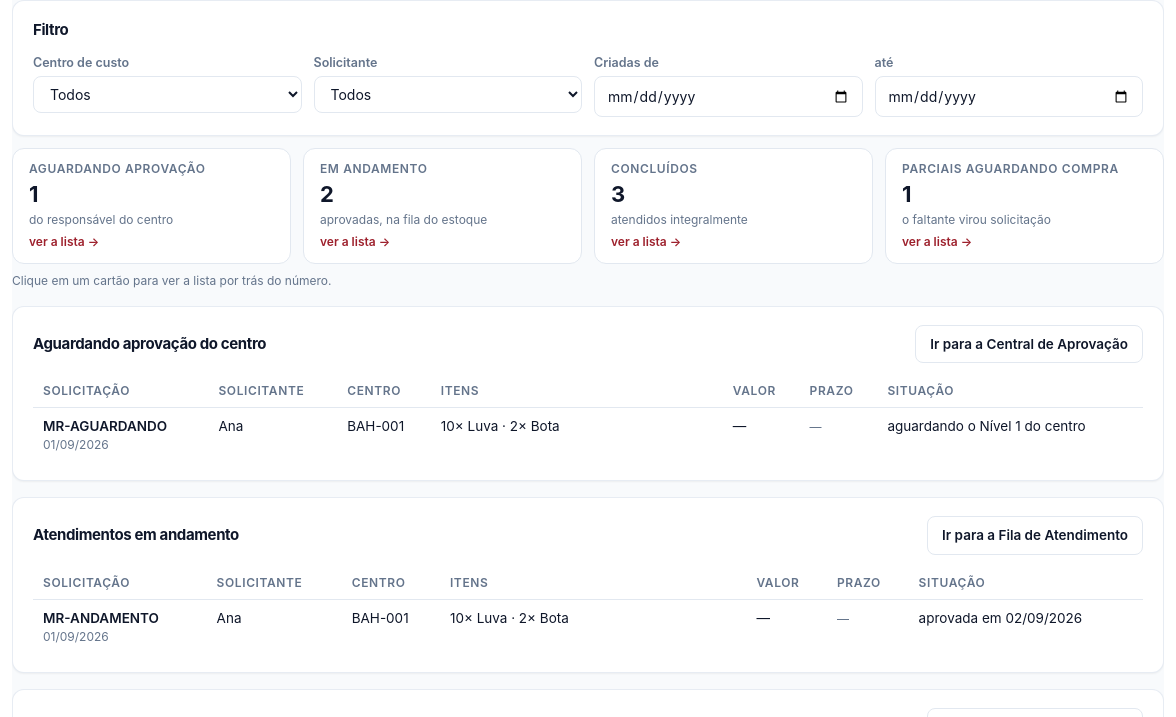
Scenario: tela Painel de Atendimentos › clicar num cartão isola o bloco, e clicar de novo devolve todos
Check: the table with test id "painel-aguardando" is shown, box [33,375,1143,462]
Click the button "Em andamento 2 aprovadas, na fila do estoque ver a lista →": point(374, 169) [303,148,582,264]
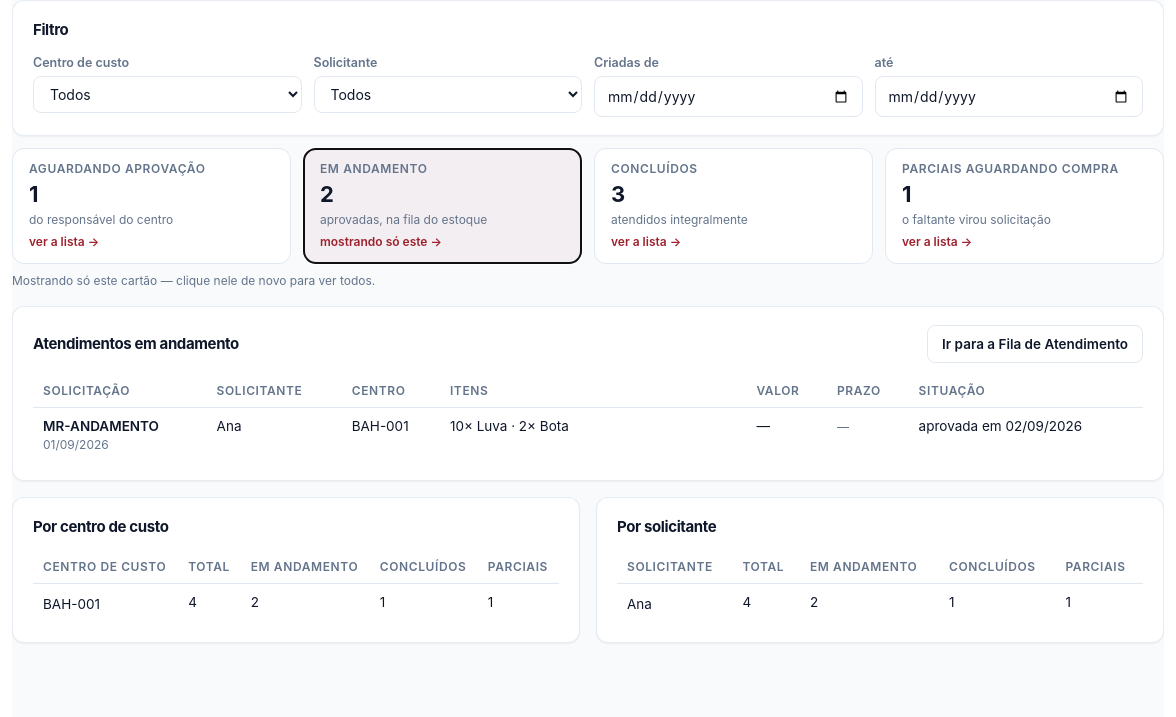
Check: the table with test id "painel-andamento" is shown, box [33,375,1143,462]
Check: the table with test id "painel-aguardando" is gone
Click the button "Em andamento": point(374, 169) [303,148,582,264]
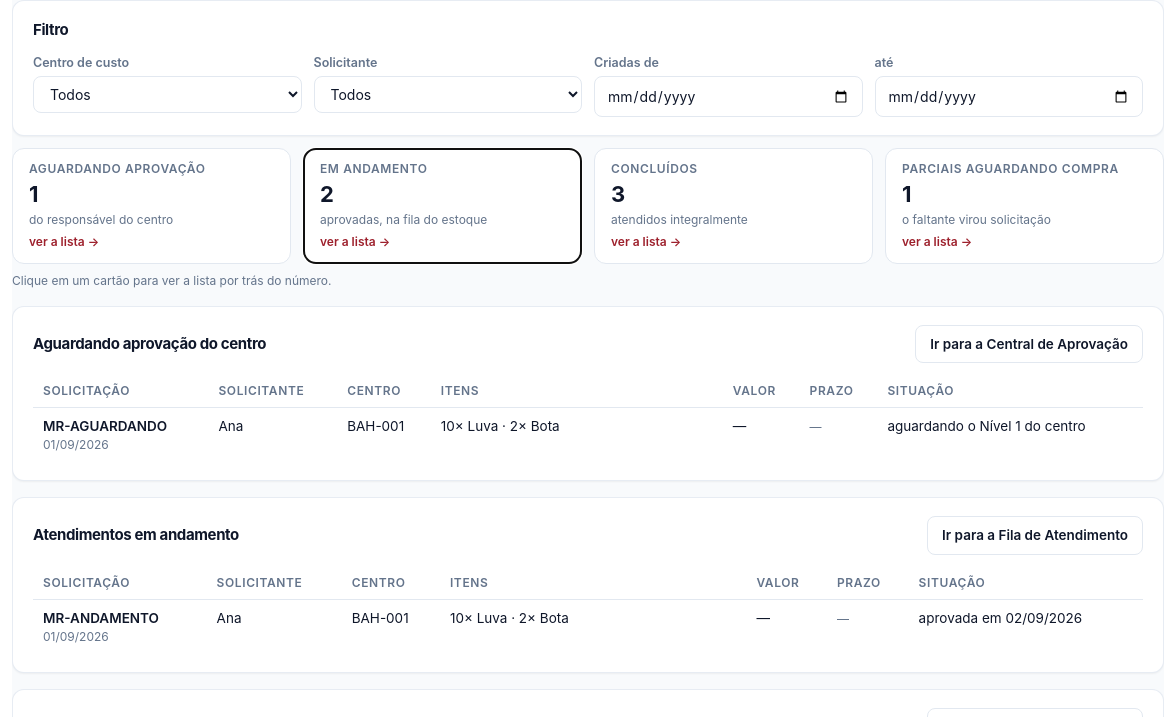
Check: the table with test id "painel-aguardando" is shown, box [33,375,1143,462]
